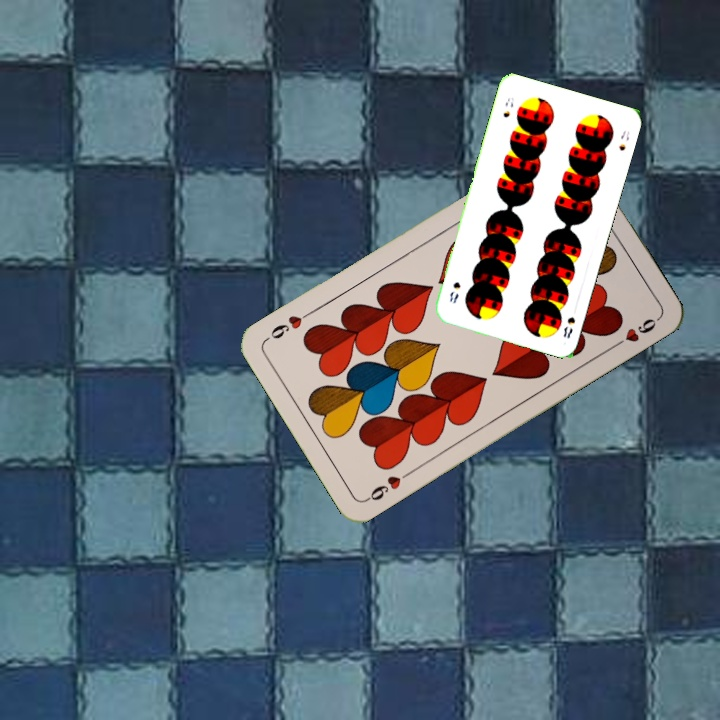H9: (361, 467, 415, 504)
S8: (559, 313, 578, 341), (499, 93, 517, 120)
